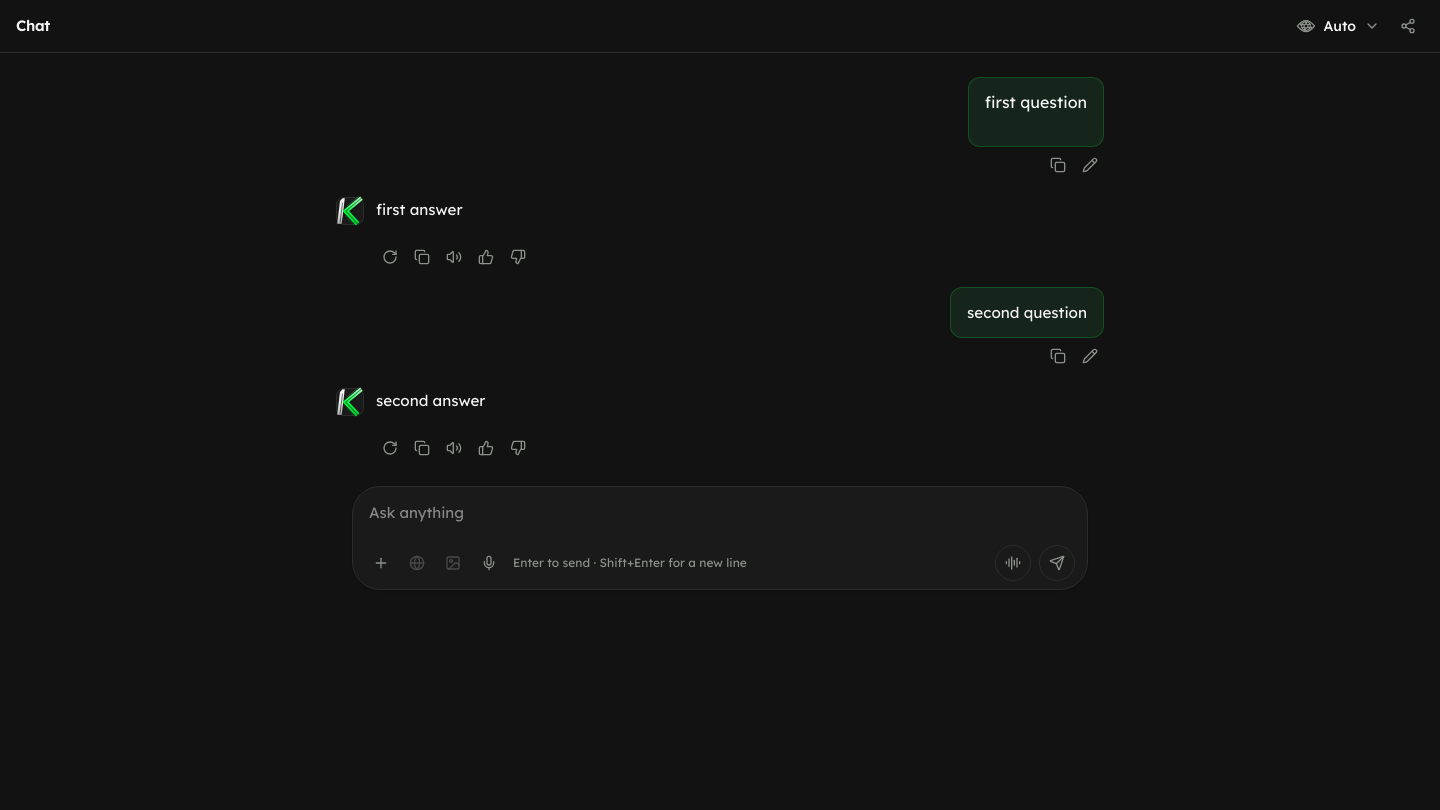
Scenario: ChatPage message actions › regenerating an older assistant turn drops it and everything after it
The image size is (1440, 810).
Click the button named "Regenerate" below "first answer".
click(390, 257)  # box [376,243,404,271]
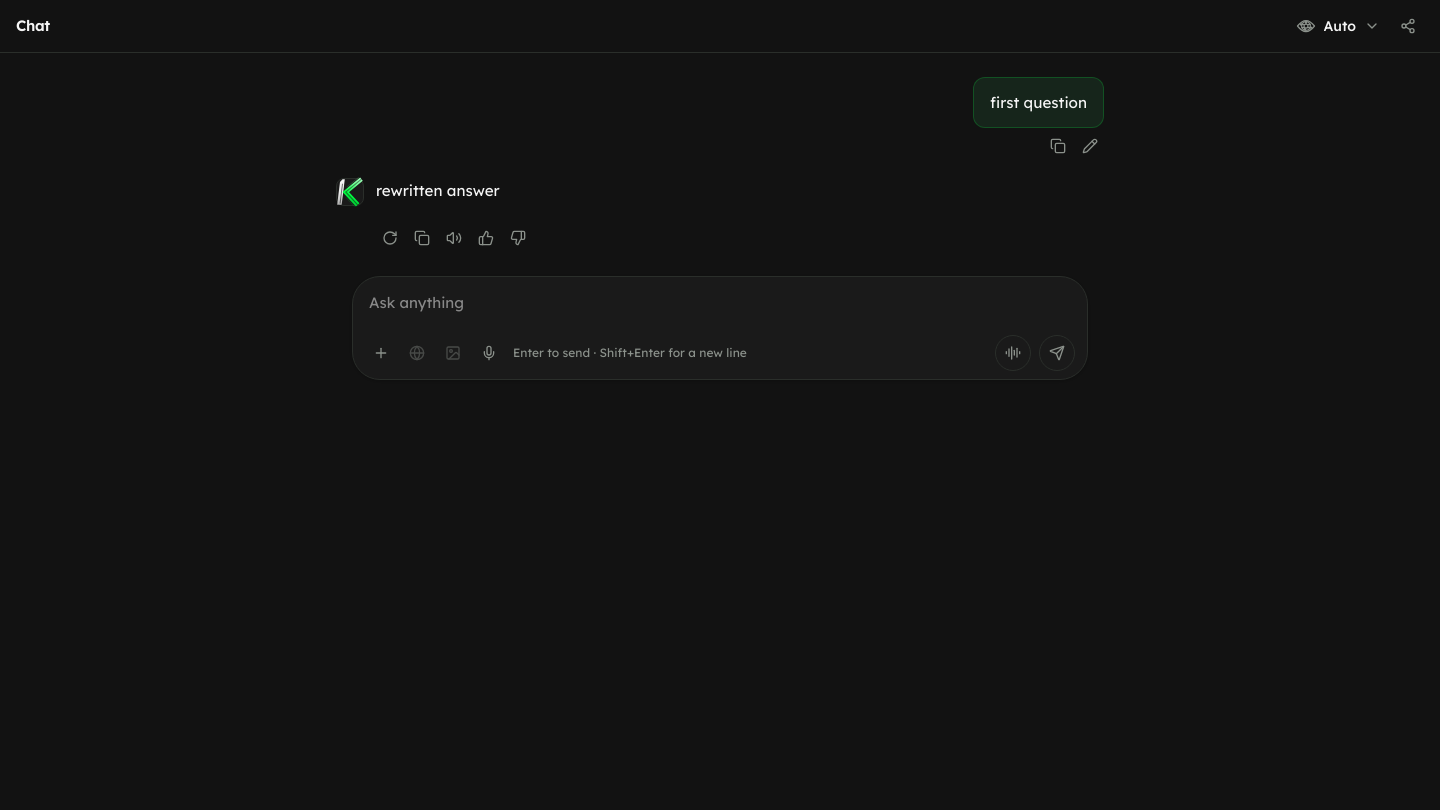
Now the text "rewritten answer" is shown, box [376,181,500,200]
Now the text "first answer" is gone
Now the text "second question" is gone
